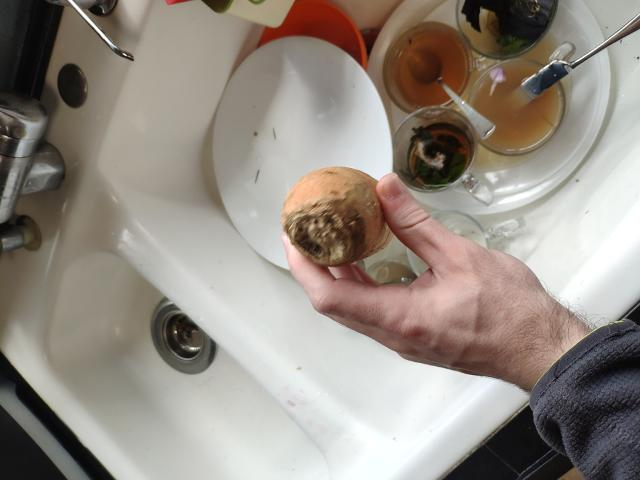sweet_potato: (276, 162, 411, 270)
